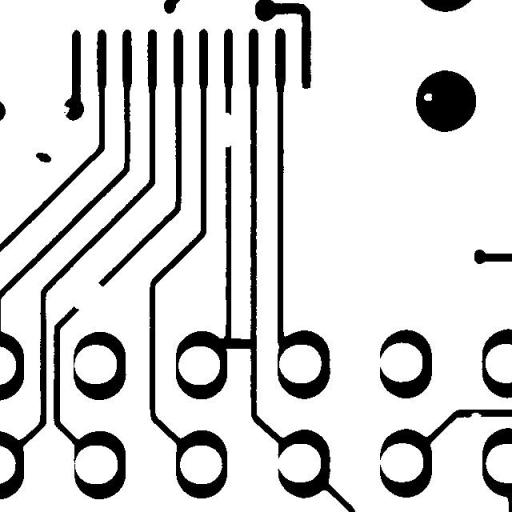copper: (28, 144, 58, 170)
mousebite: (54, 98, 76, 123), (463, 405, 489, 425)
open: (64, 275, 110, 317), (214, 105, 240, 154)
pin-hole: (416, 86, 439, 108)
short: (211, 330, 262, 356)
